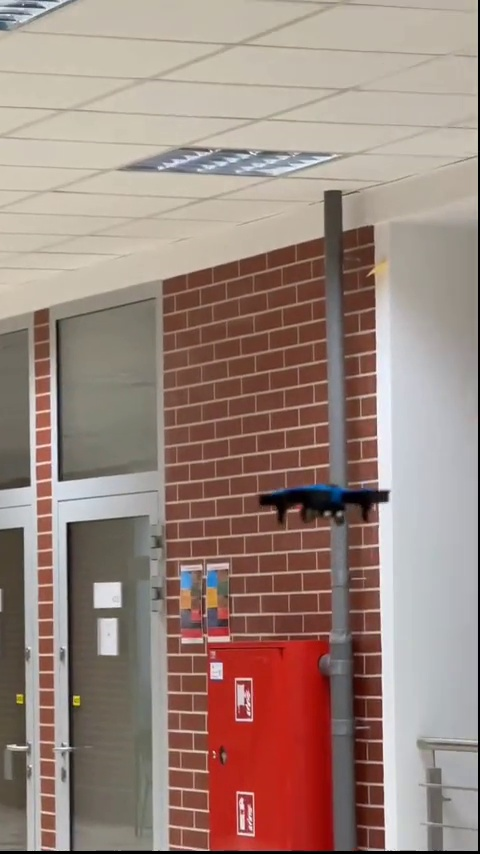drone: (258, 483, 392, 524)
